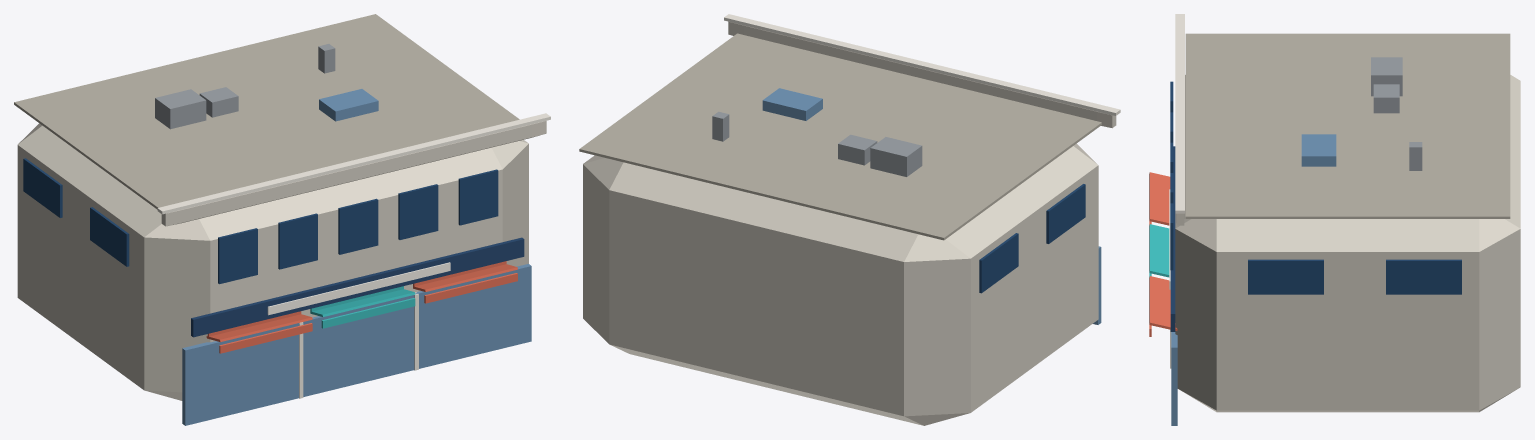
File: shop_w16_f2_stripe.glb
3 renders of one model, left to right at view 1: azimuth 30°, elevation 25°; view 2: azimuth 150°, elevation 25°; view 3: azimuth 270°, elevation 25°, orthographic. The views are drawn at different scales.
Visible parts, largest first — view 1: walls, roofslab, shopglass, parapet, fascia, pcap, win.003, win.004, win.002, win, win.001, fasciatx (+11 smaller); view 2: walls, roofslab, parapet, pcap, hvac, sb.002, sb, skylt, hvac2; view 3: walls, roofslab, sb.001, sb.003, pcap, skylt, awn.002, awn, awn.001, hvac, hvac2, fascia (+2 smaller).
Part boxes in pixels (<box>): walls: <box>17,123,528,400</box>; roofslab: <box>14,14,519,209</box>; shopglass: <box>182,264,531,425</box>; parapet: <box>161,121,546,226</box>; fascia: <box>191,237,524,337</box>; pcap: <box>157,113,550,214</box>; win.003: <box>398,184,438,239</box>; win.004: <box>458,169,498,225</box>; win.002: <box>338,198,378,254</box>; win: <box>218,228,257,284</box>; win.001: <box>278,213,317,269</box>; fasciatx: <box>267,262,450,315</box>; walls: <box>583,143,1098,425</box>; roofslab: <box>579,33,1101,240</box>; parapet: <box>728,21,1116,128</box>; pcap: <box>724,14,1120,115</box>; hvac: <box>870,137,922,176</box>; sb.002: <box>979,233,1018,293</box>; sb: <box>1046,184,1085,243</box>; skylt: <box>762,88,822,120</box>; hvac2: <box>838,134,877,165</box>; walls: <box>1175,75,1520,412</box>; roofslab: <box>1185,33,1510,218</box>; sb.001: <box>1248,259,1323,294</box>; sb.003: <box>1386,259,1461,294</box>; pcap: <box>1175,14,1184,213</box>; skylt: <box>1301,134,1336,166</box>; awn.002: <box>1149,276,1177,330</box>; awn: <box>1149,172,1170,225</box>; awn.001: <box>1149,224,1169,277</box>; hvac: <box>1371,57,1402,96</box>; hvac2: <box>1373,84,1399,113</box>; fascia: <box>1170,146,1175,331</box>.
Bounding box in the file's own units: 16.2 × 9.1 × 12.91.
